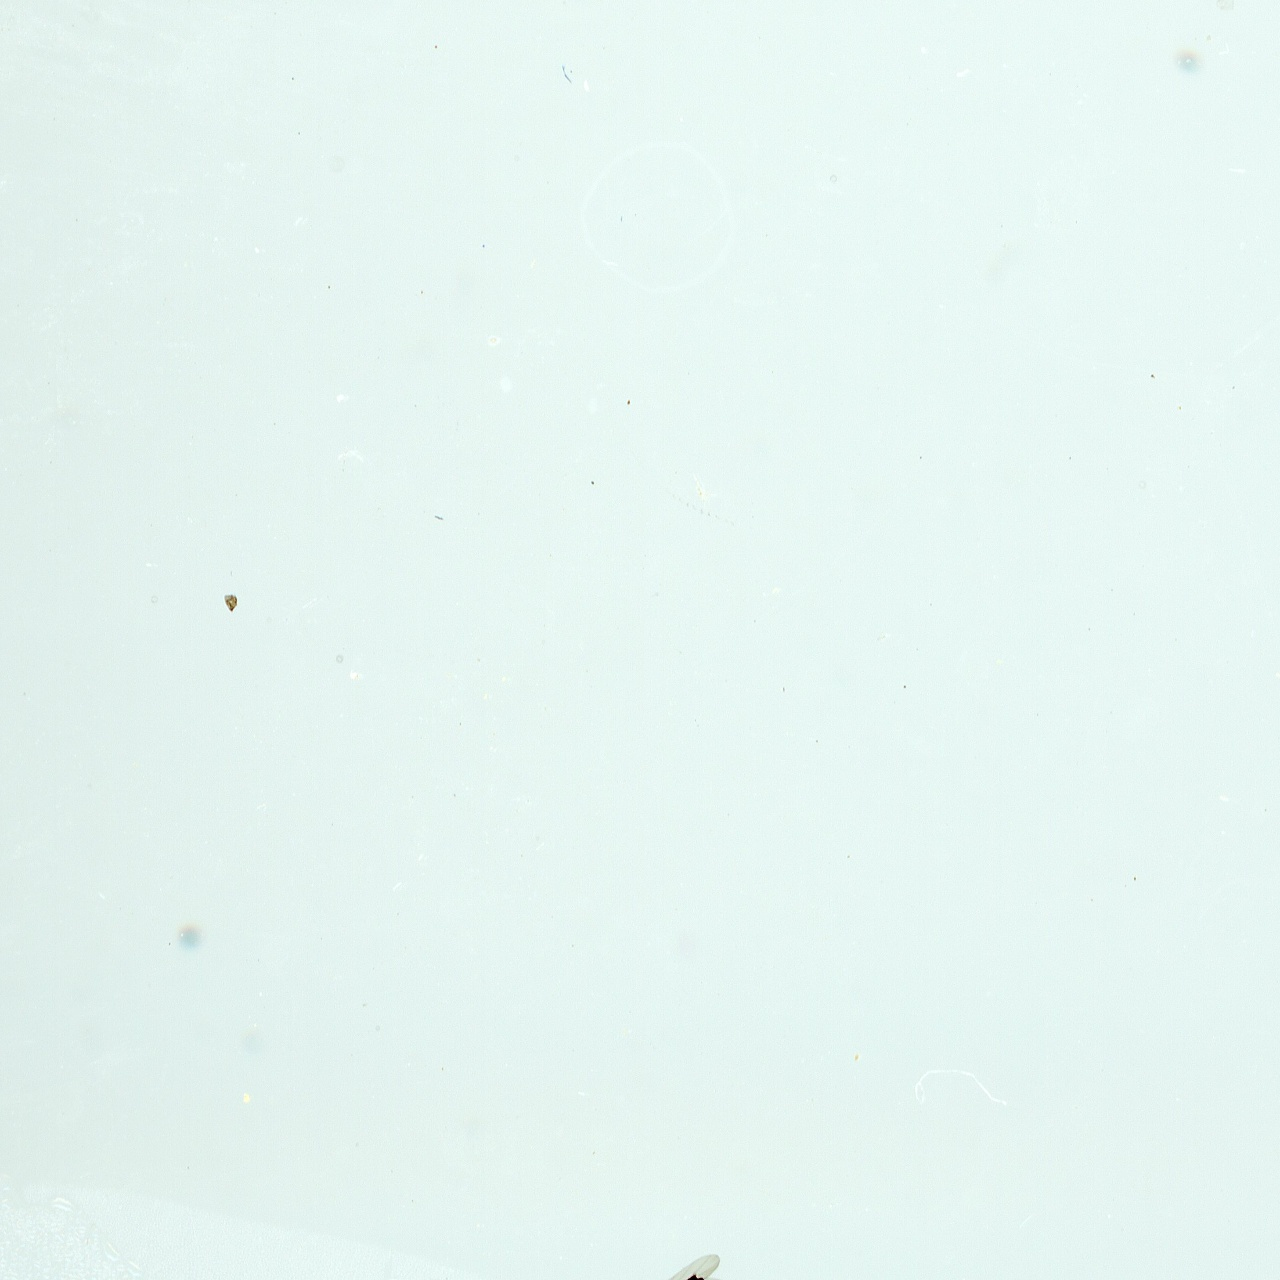arthropod: (618, 1251, 764, 1280)
